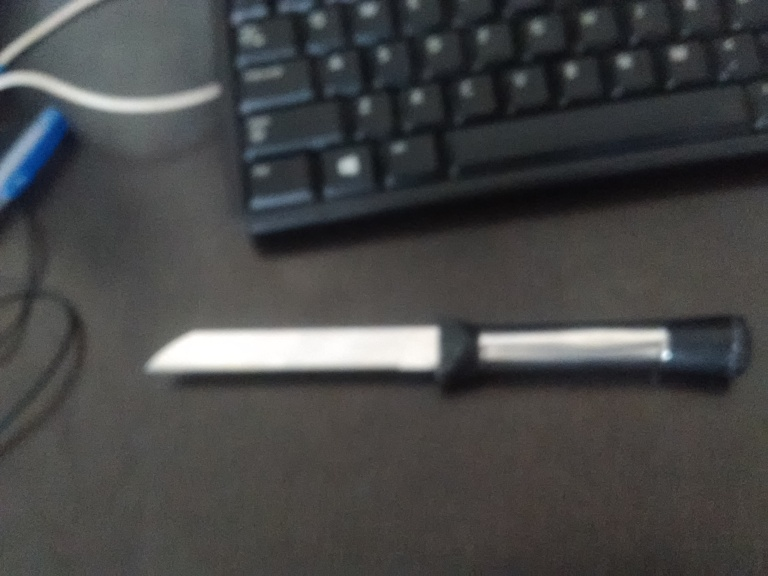knife: (137, 312, 757, 400)
